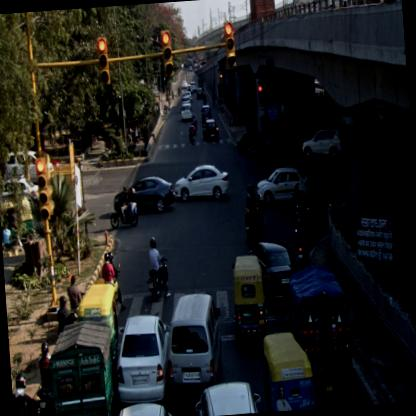car: (114, 314, 178, 408), (164, 293, 224, 388), (248, 236, 300, 308), (112, 177, 175, 217), (194, 381, 263, 415), (174, 164, 230, 204), (256, 164, 310, 204), (300, 127, 346, 164), (236, 132, 266, 158), (203, 120, 221, 143), (200, 103, 214, 121), (181, 103, 194, 122), (197, 86, 203, 98), (181, 79, 188, 89)
motorcycle: (35, 339, 59, 415), (144, 236, 170, 300), (108, 186, 140, 228), (240, 192, 260, 241), (294, 221, 309, 272), (189, 127, 196, 142), (192, 116, 198, 132)
truck: (288, 267, 353, 401), (47, 320, 118, 415)
